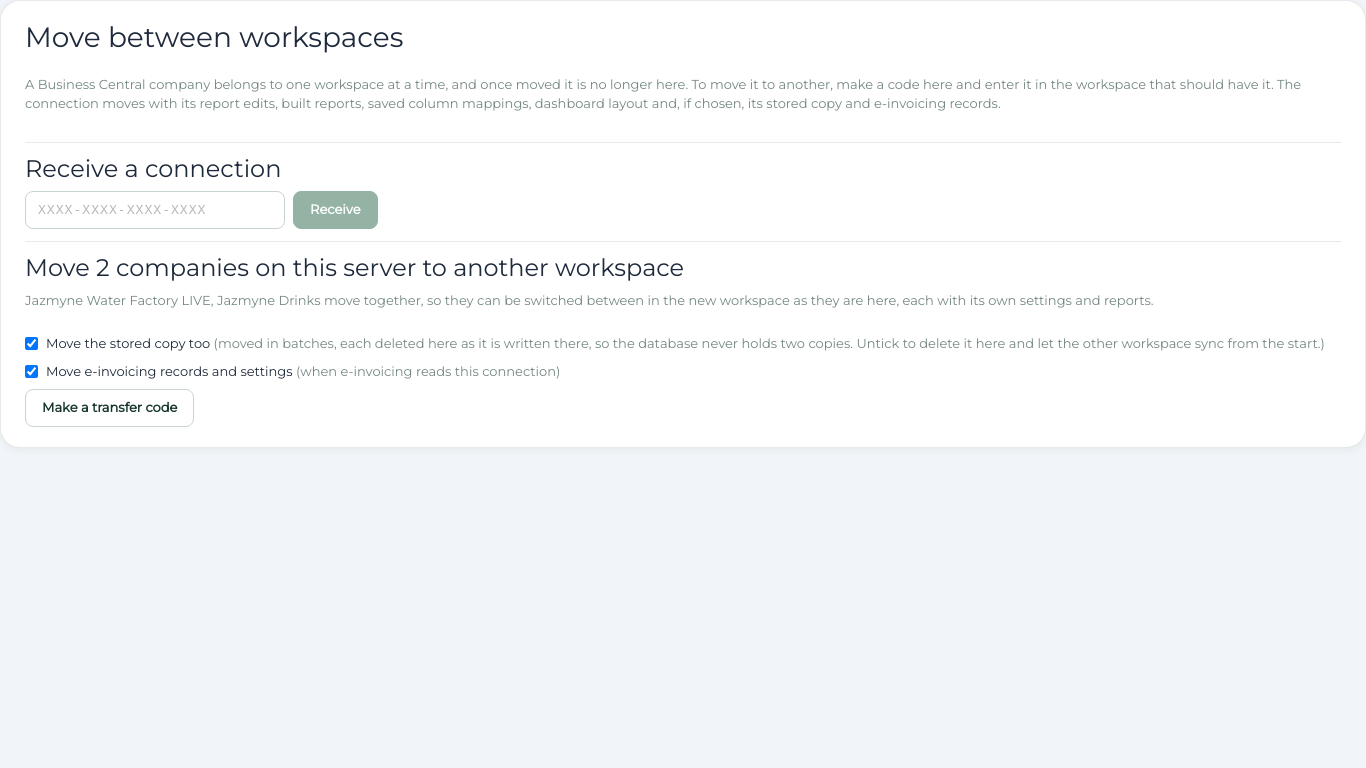
Test: the workspace that has the connection makes a code, shown once, and can cancel it
Check: the heading "Move 2 companies on this server to another workspace" is shown, box [25,253,684,282]
Check: the text "Jazmyne Water Factory LIVE, Jazmyne Drinks move together" is shown, box [25,291,1341,310]
Step 1. Click the checkbox labelled "Move the stored copy too" → {"x": 32, "y": 344}, box [25,337,38,350]
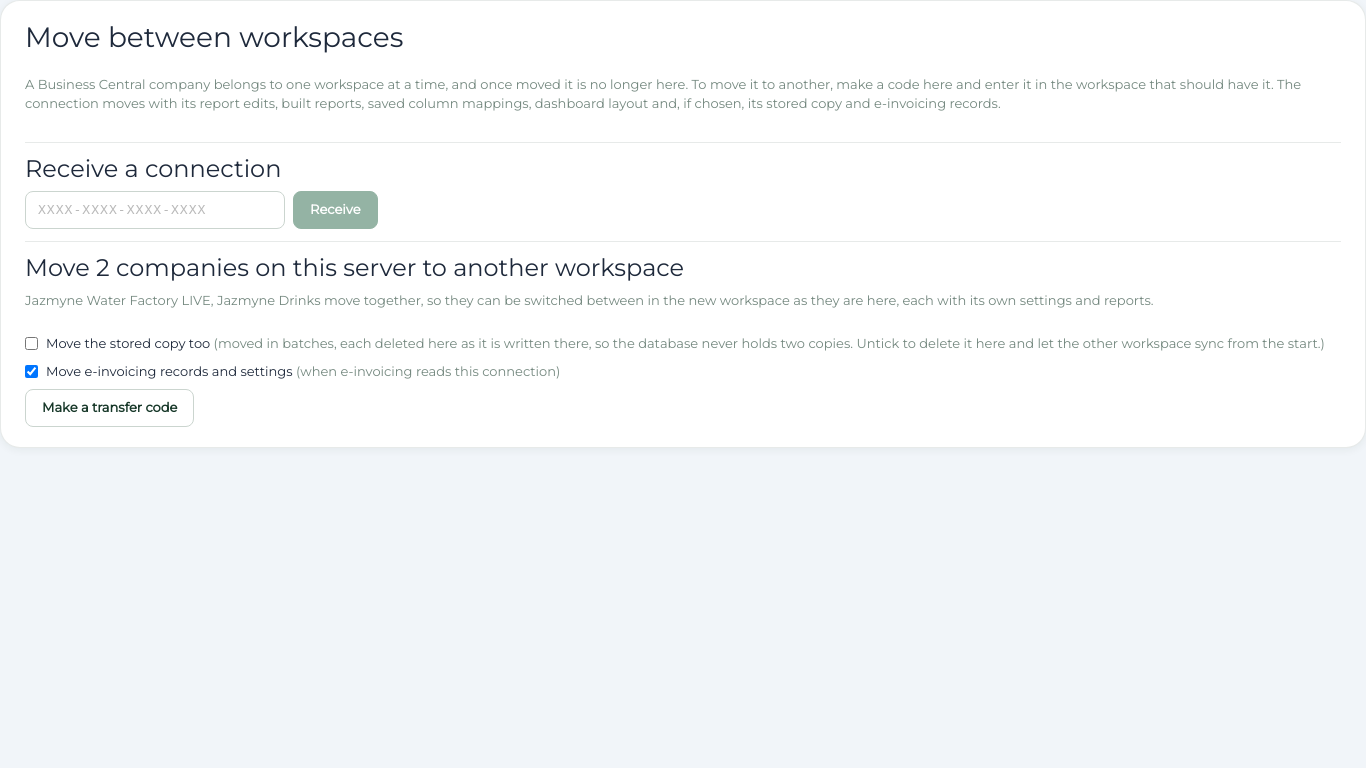
Step 2. Click the button "Make a transfer code" → {"x": 110, "y": 408}, box [25,389,194,427]
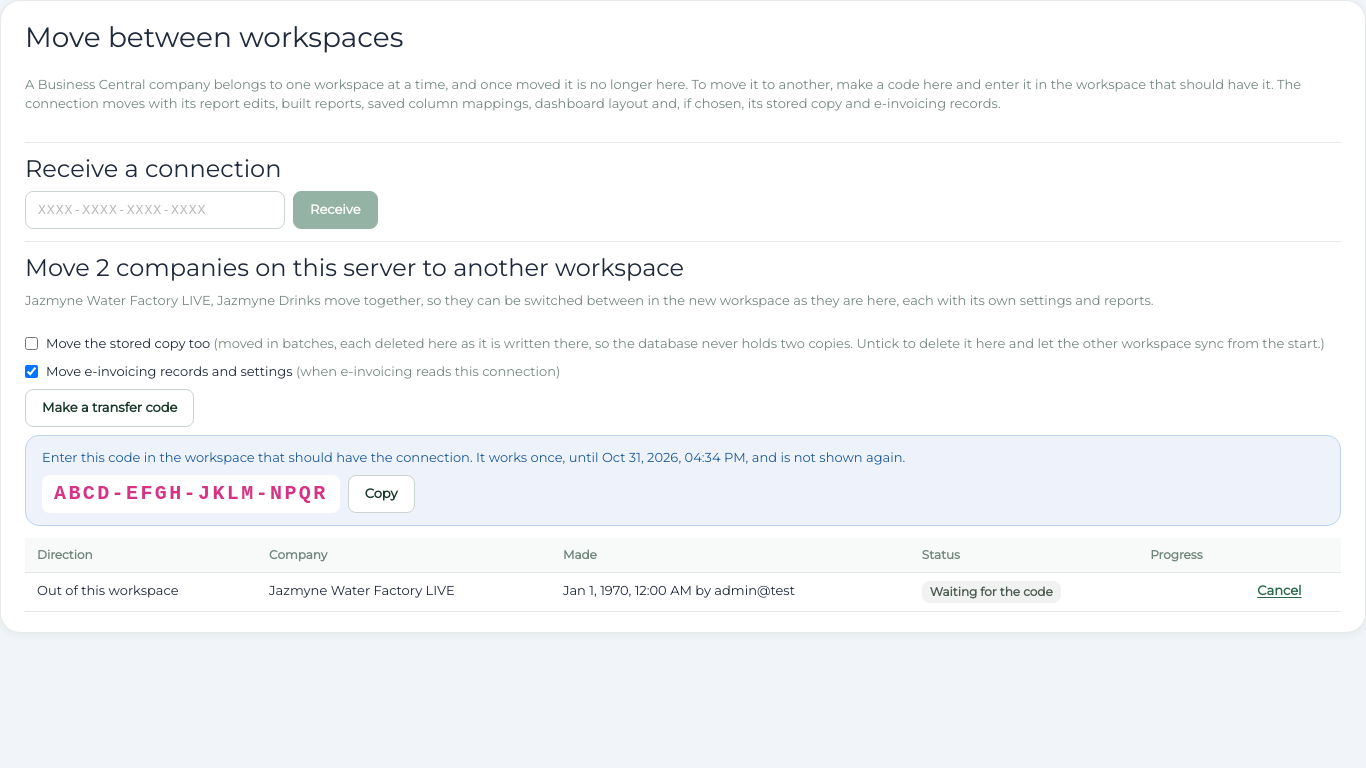
Check: the text named "The transfer code" reads "ABCD-EFGH-JKLM-NPQR", box [54,482,328,505]
Check: the text "Waiting for the code" is shown, box [922,581,1061,603]
Step 3. Click the button "Cancel" → {"x": 1279, "y": 591}, box [1257,581,1302,601]
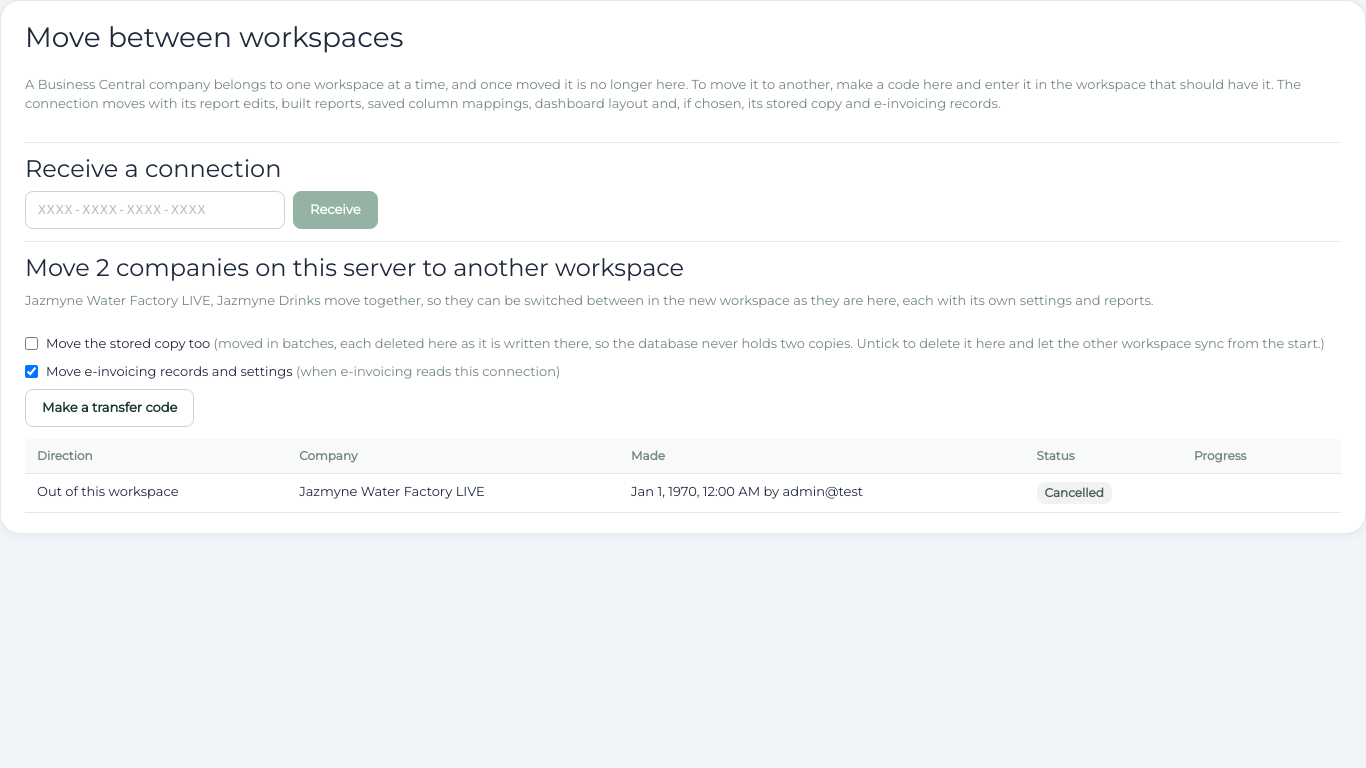
Check: the text "Cancelled" is shown, box [1036,482,1112,504]
